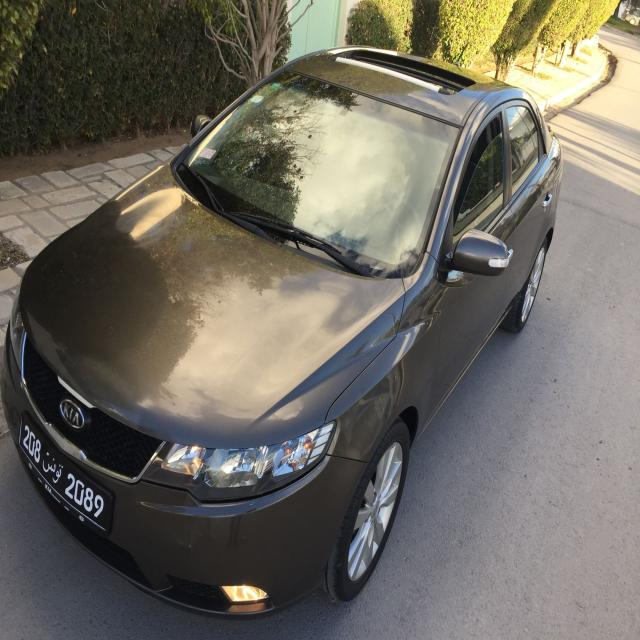LP: (18, 411, 108, 529)
